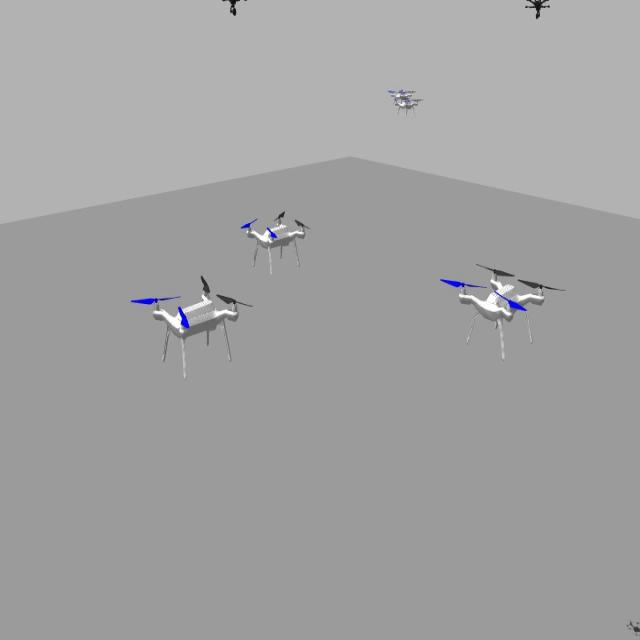Drone: (130, 274, 256, 372)
